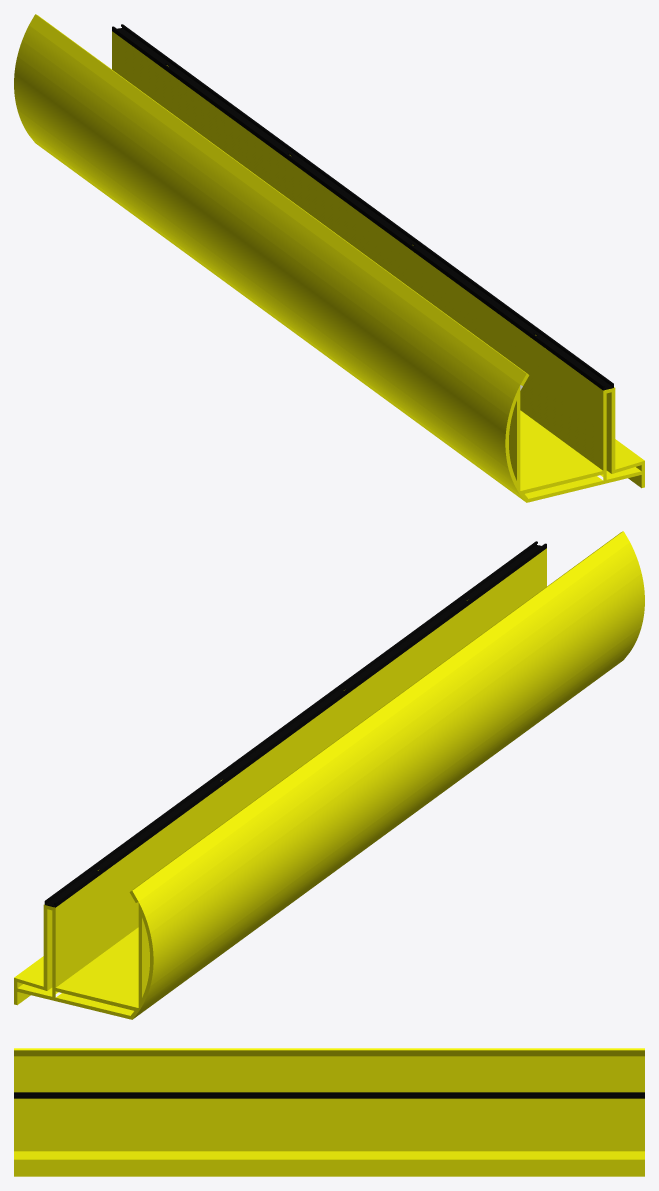
File: gutter.glb
The picture shows the model from 3 angles, top to bottom: view 1: azimuth 30°, elevation 25°; view 2: azimuth 150°, elevation 25°; view 3: azimuth 270°, elevation 25°; orthographic projection. The views are drawn at different scales.
Visible parts, largest first — view 1: Regen_Rinne_1m_ohne_Deckel1, Group1; view 2: Regen_Rinne_1m_ohne_Deckel1, Group1; view 3: Regen_Rinne_1m_ohne_Deckel1, Group1.
Boxes of the visible parts, x1=… form: Regen_Rinne_1m_ohne_Deckel1: x1=14, y1=14, x2=644, y2=502; Group1: x1=112, y1=24, x2=613, y2=390; Regen_Rinne_1m_ohne_Deckel1: x1=14, y1=531, x2=644, y2=1019; Group1: x1=44, y1=541, x2=546, y2=907; Regen_Rinne_1m_ohne_Deckel1: x1=14, y1=1048, x2=644, y2=1176; Group1: x1=14, y1=1092, x2=644, y2=1098.
Size of the model in its own units: 0.164 by 0.16 by 1.
Materials: 3 (1 with a texture image).
